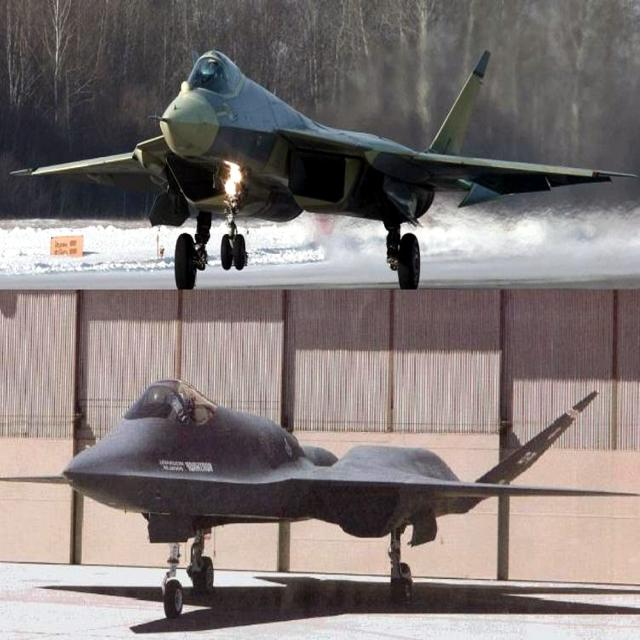MIL_Plane: (0, 378, 640, 619), (9, 49, 638, 289)
